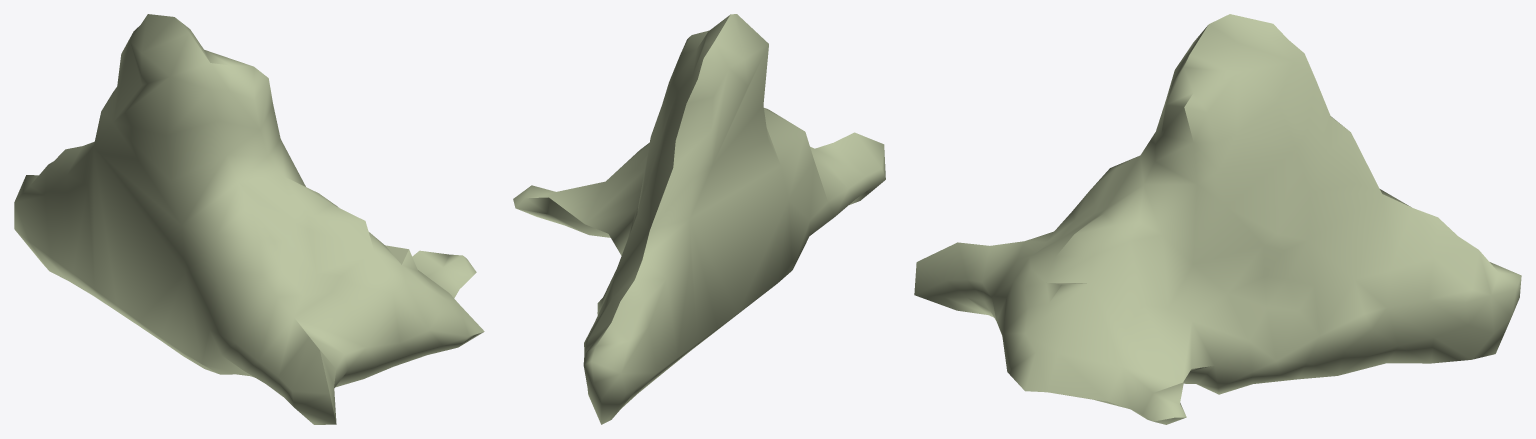
Rendered from spl-344.glb.
3 renders of one model, left to right at view 1: azimuth 30°, elevation 25°; view 2: azimuth 150°, elevation 25°; view 3: azimuth 270°, elevation 25°, orthographic. The views are drawn at different scales.
Parts seen in each view (by area): view 1: spl-344; view 2: spl-344; view 3: spl-344.
Boxes of the visible parts, left/top/right/bottom form: spl-344: left=14, top=14, right=484, bottom=424; spl-344: left=513, top=14, right=885, bottom=424; spl-344: left=914, top=14, right=1521, bottom=424.
Size of the model in its own units: 7.69 by 8.86 by 14.31.
